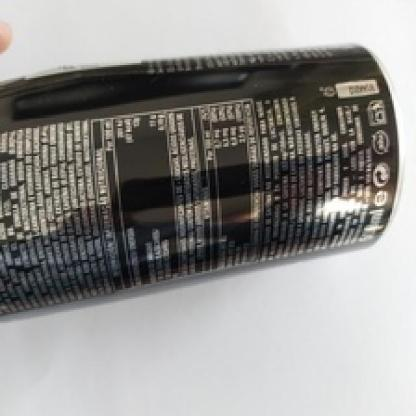Can: (0, 43, 402, 316)
